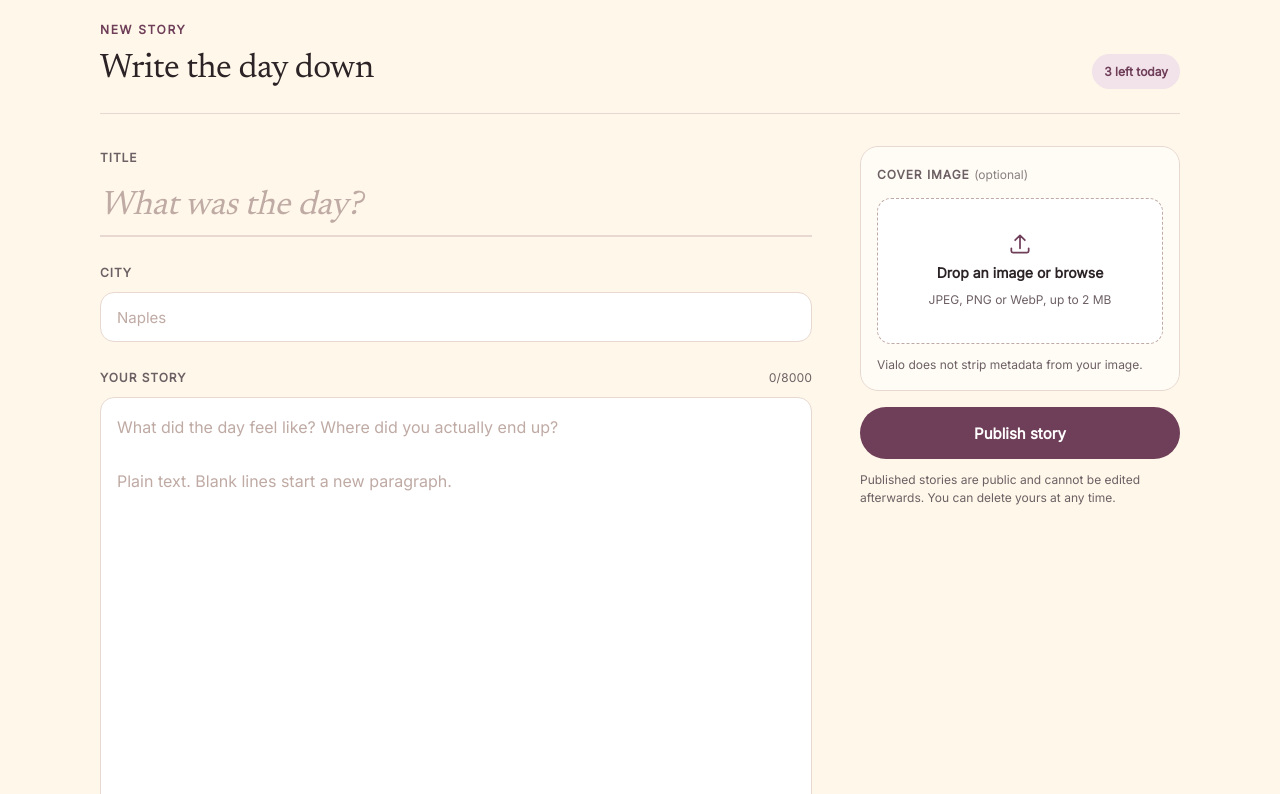
Test case: JournalEditor validation › shows error when body is too short
In the field labelled "Title": {"x": 456, "y": 207} [100,177,812,237], type "My Day"
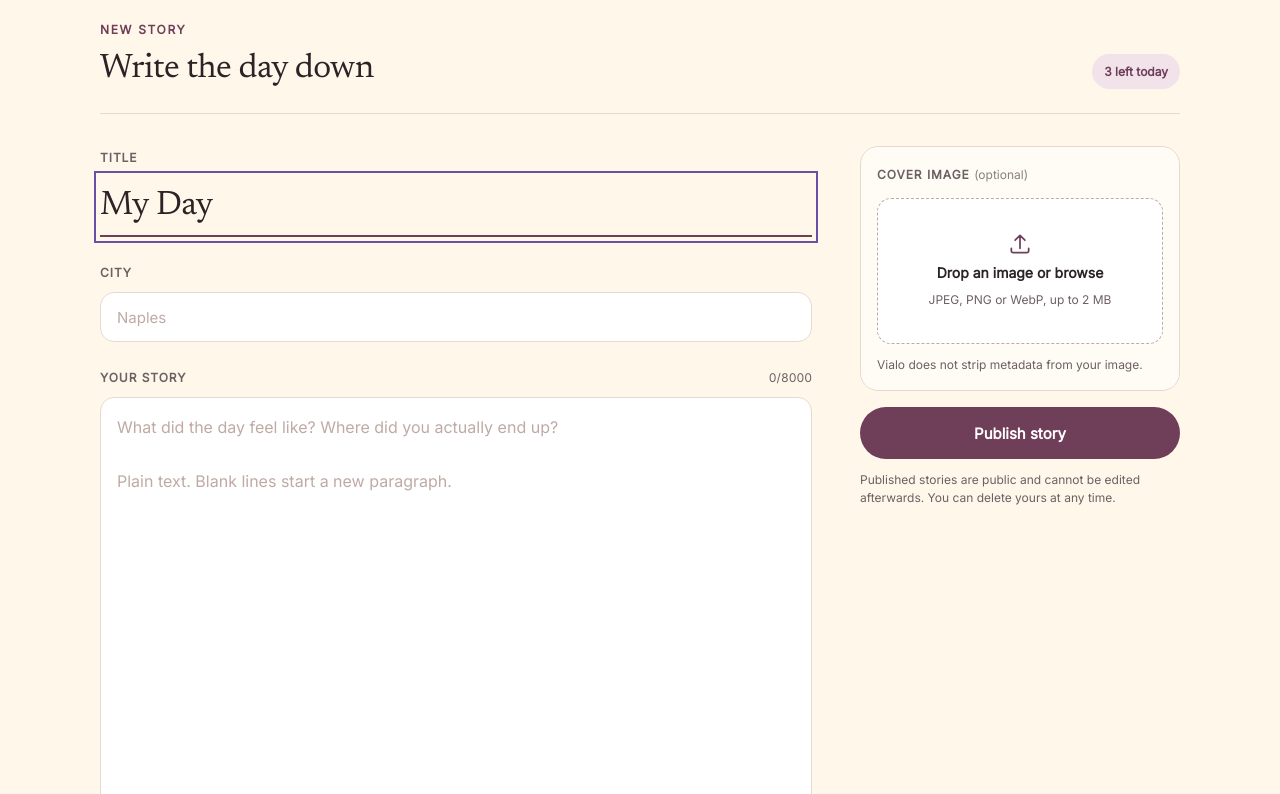
In the field labelled "City": {"x": 456, "y": 317} [100,292,812,342], type "Venice"
(page scrolled)
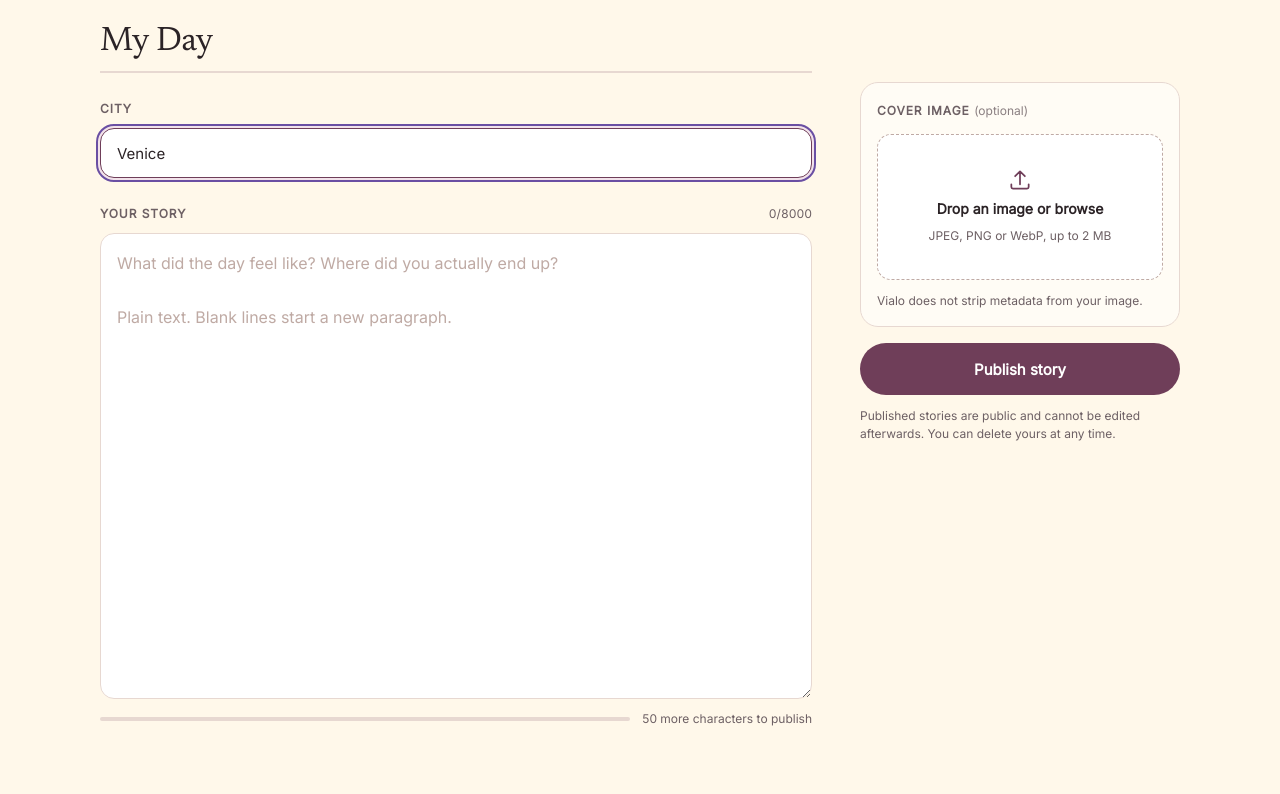
In the text box labelled "Your story": {"x": 456, "y": 466} [100,233,812,699], type "Too short."
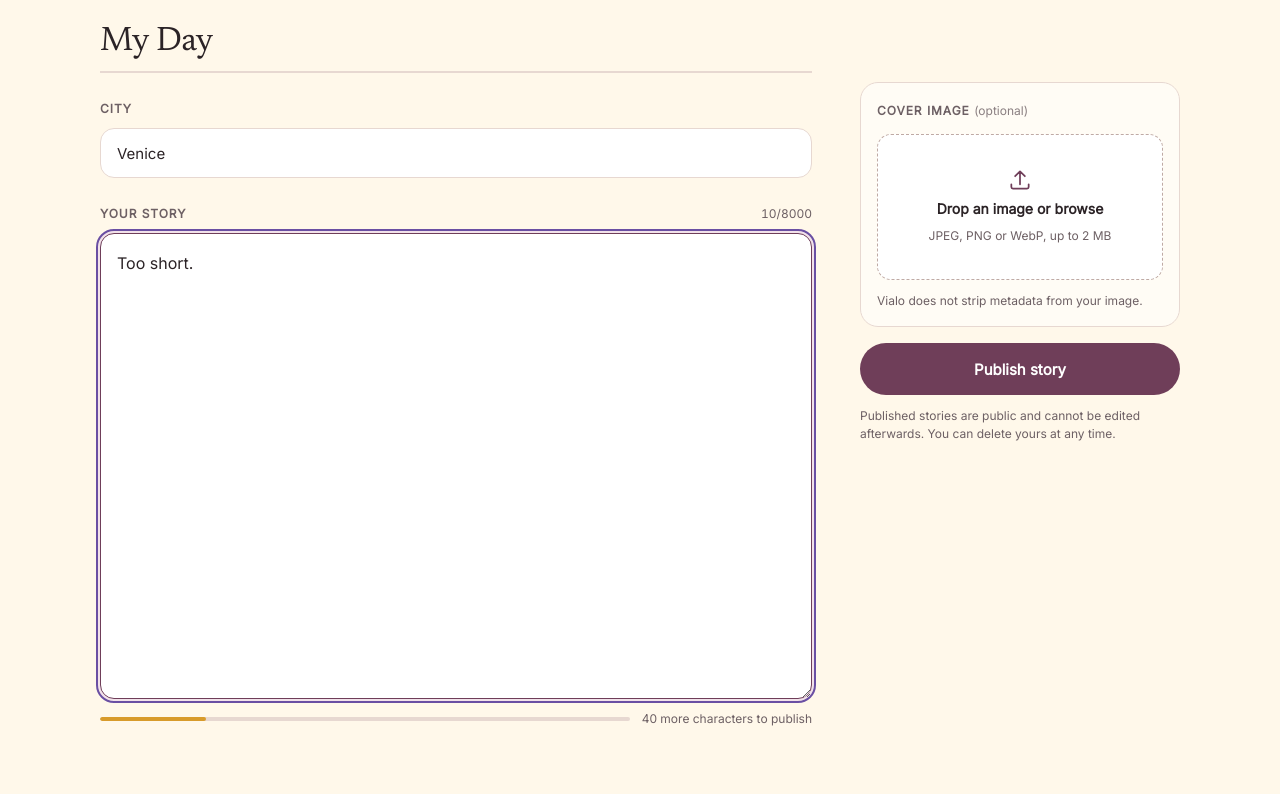
Click the button "Publish story": {"x": 1020, "y": 369} [860,343,1180,395]
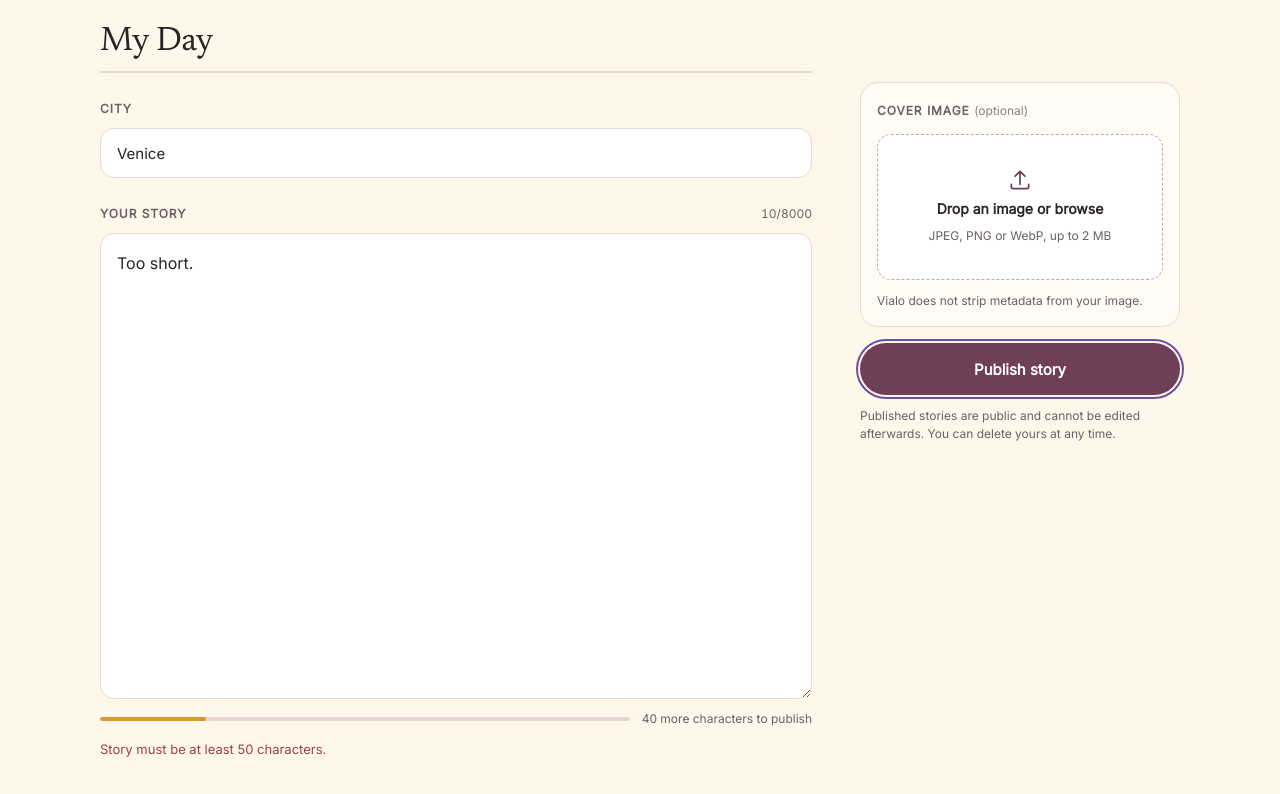
Result: the text "Story must be at least 50 characters." is shown at [100,741,326,757]
